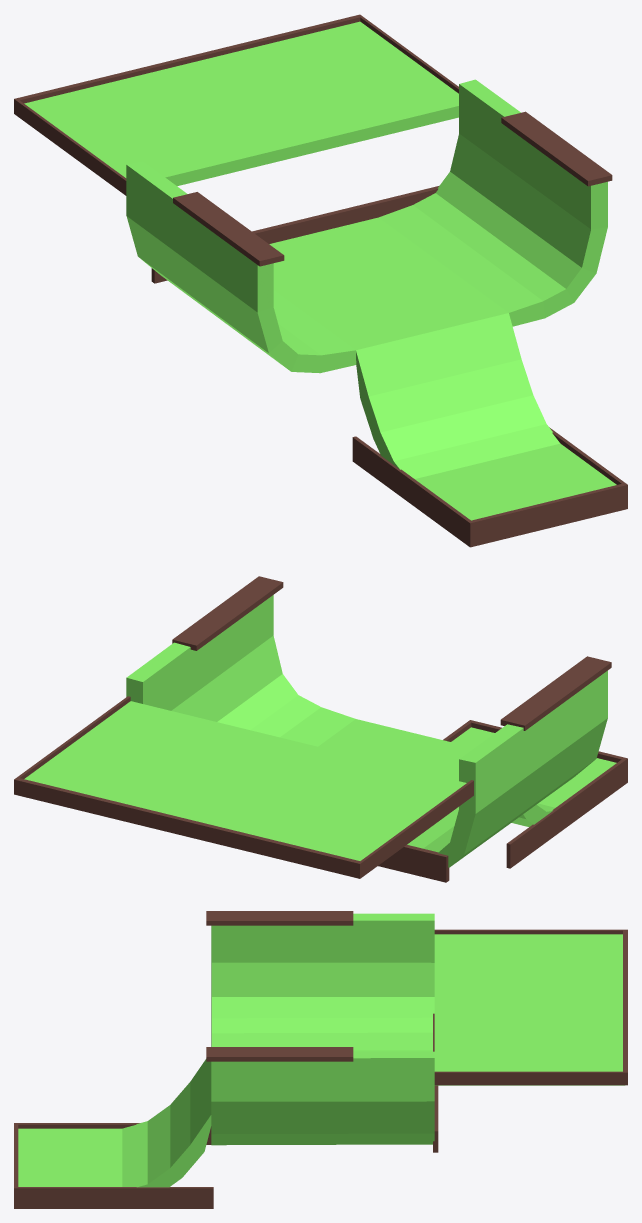
3 views of the same model, one above another, from view 1: azimuth 30°, elevation 25°; view 2: azimuth 150°, elevation 25°; view 3: azimuth 270°, elevation 25° (orthographic). The views are drawn at different scales.
Visible parts, largest first — view 1: Cube.028, Cube.029, Cube.031, Cube.030, Cube.033, Cube.032; view 2: Cube.028, Cube.031, Cube.029, Cube.033, Cube.032, Cube.030; view 3: Cube.028, Cube.029, Cube.031, Cube.032, Cube.033, Cube.030.
Boxes of the visible parts, bbox=[...] form: Cube.028: bbox=[24, 21, 616, 520]; Cube.029: bbox=[352, 427, 627, 547]; Cube.031: bbox=[14, 14, 458, 195]; Cube.030: bbox=[151, 186, 438, 283]; Cube.033: bbox=[173, 192, 284, 266]; Cube.032: bbox=[501, 111, 612, 186]; Cube.028: bbox=[24, 595, 616, 867]; Cube.031: bbox=[14, 696, 473, 878]; Cube.029: bbox=[443, 720, 627, 868]; Cube.033: bbox=[500, 656, 611, 730]; Cube.032: bbox=[172, 576, 283, 650]; Cube.030: bbox=[378, 845, 449, 882]; Cube.028: bbox=[18, 913, 624, 1187]; Cube.029: bbox=[14, 1123, 213, 1208]; Cube.031: bbox=[434, 929, 627, 1085]; Cube.032: bbox=[206, 1047, 353, 1061]; Cube.033: bbox=[206, 911, 353, 925]; Cube.030: bbox=[433, 1013, 438, 1152].
Size of the model in its own units: 1243 by 765 by 2210.
